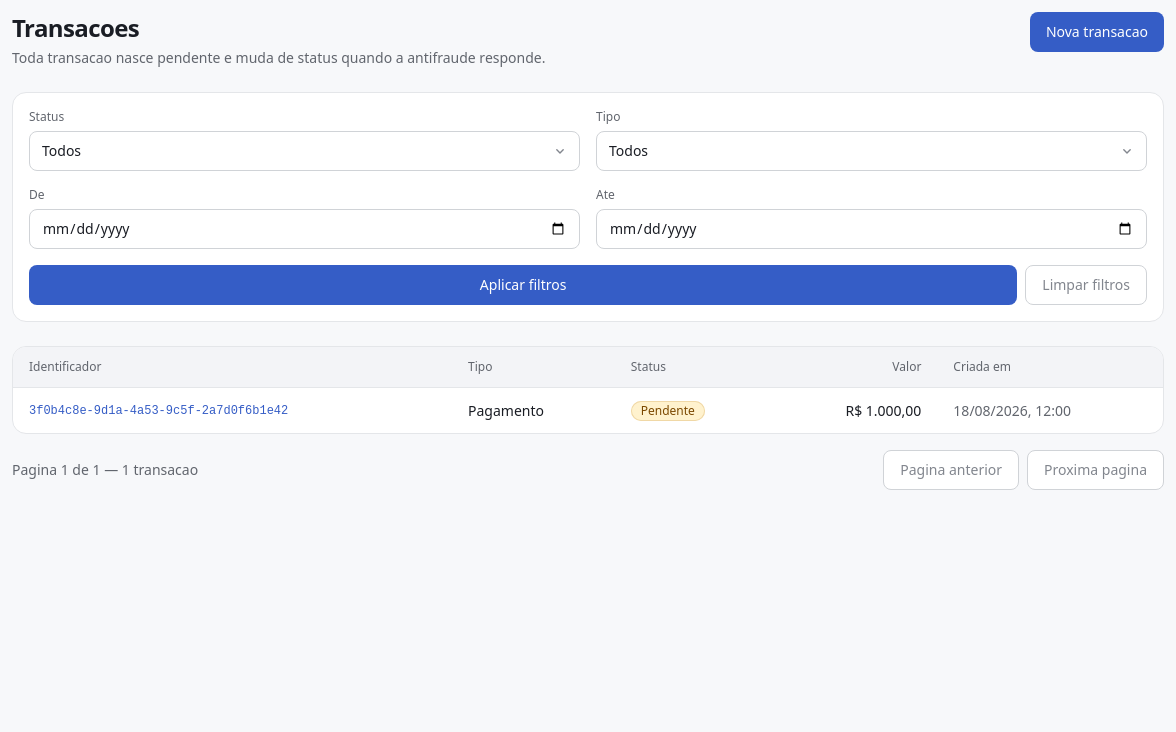
Scenario: TransactionsView › distingue lista vazia por filtro e oferece a saida
Expected: the table is shown, [13,347,1163,433]
Select "Rejeitada" in the dropdown labelled "Status". click: (304, 151)
box: [29,131,580,171]
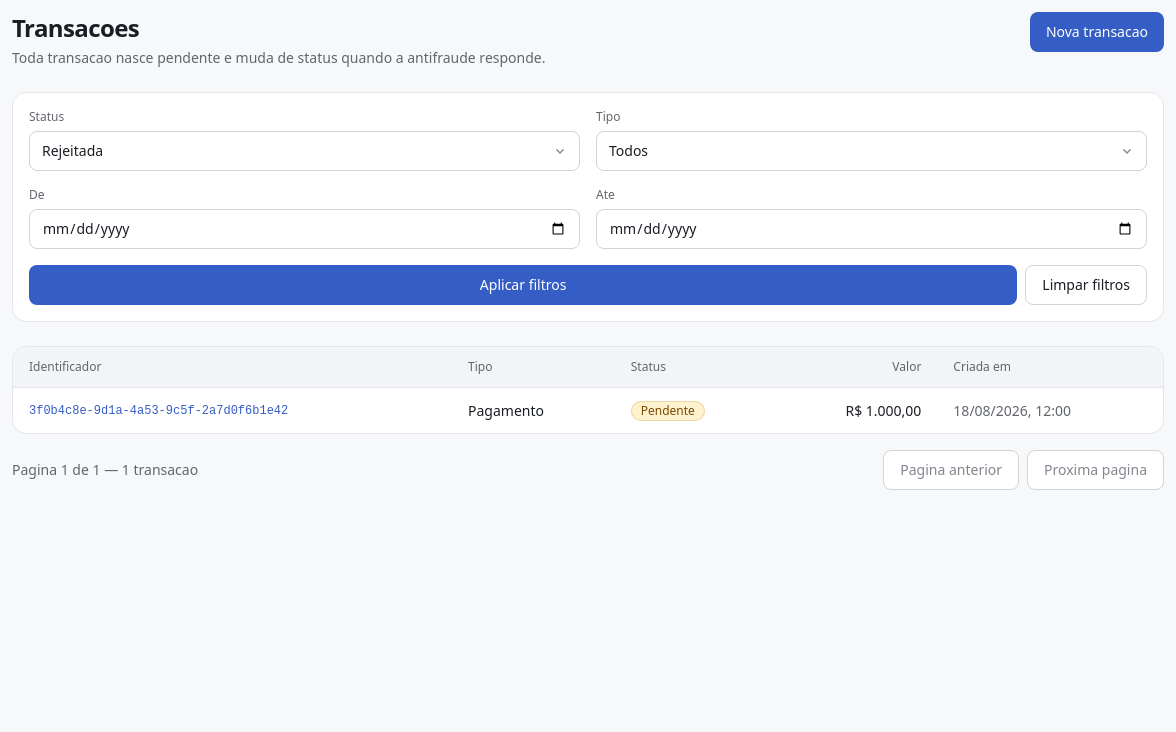
Click the button "Aplicar filtros". click: (523, 285)
box: [29,265,1017,305]
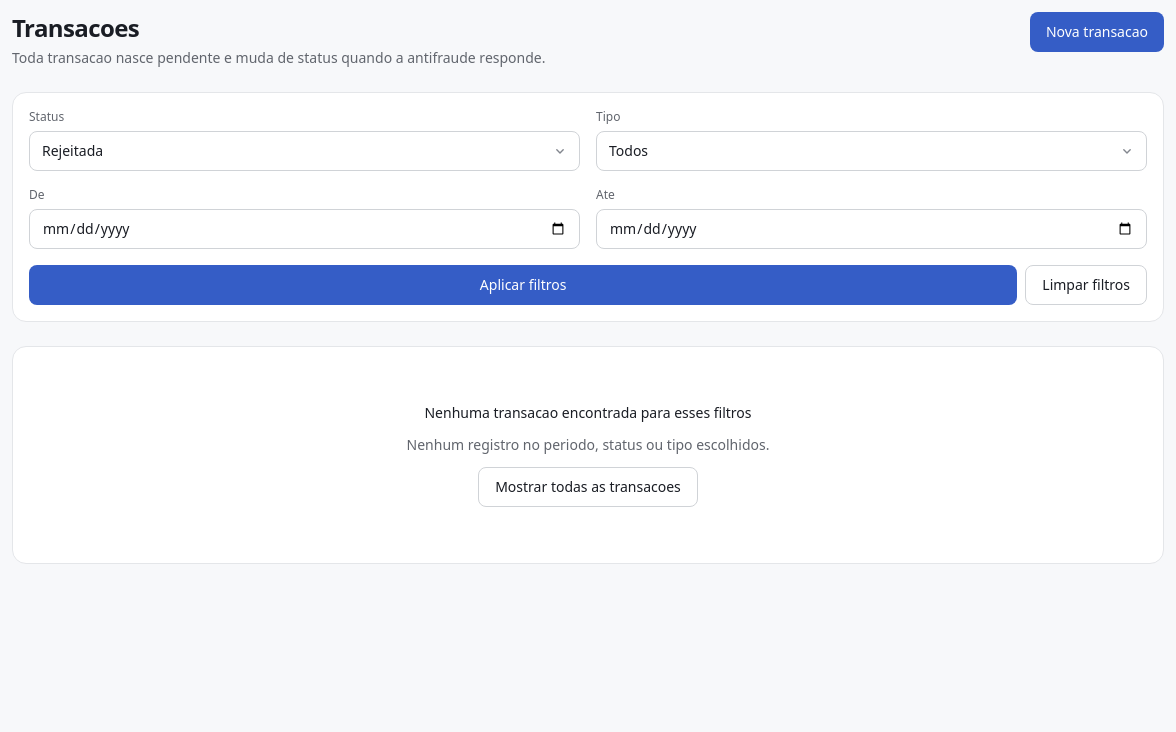
Expected: the text "Nenhuma transacao encontrada para esses filtros" is shown, [424,403,752,423]
Click the button "Mostrar todas as transacoes". click: (588, 487)
box: [478,467,698,507]
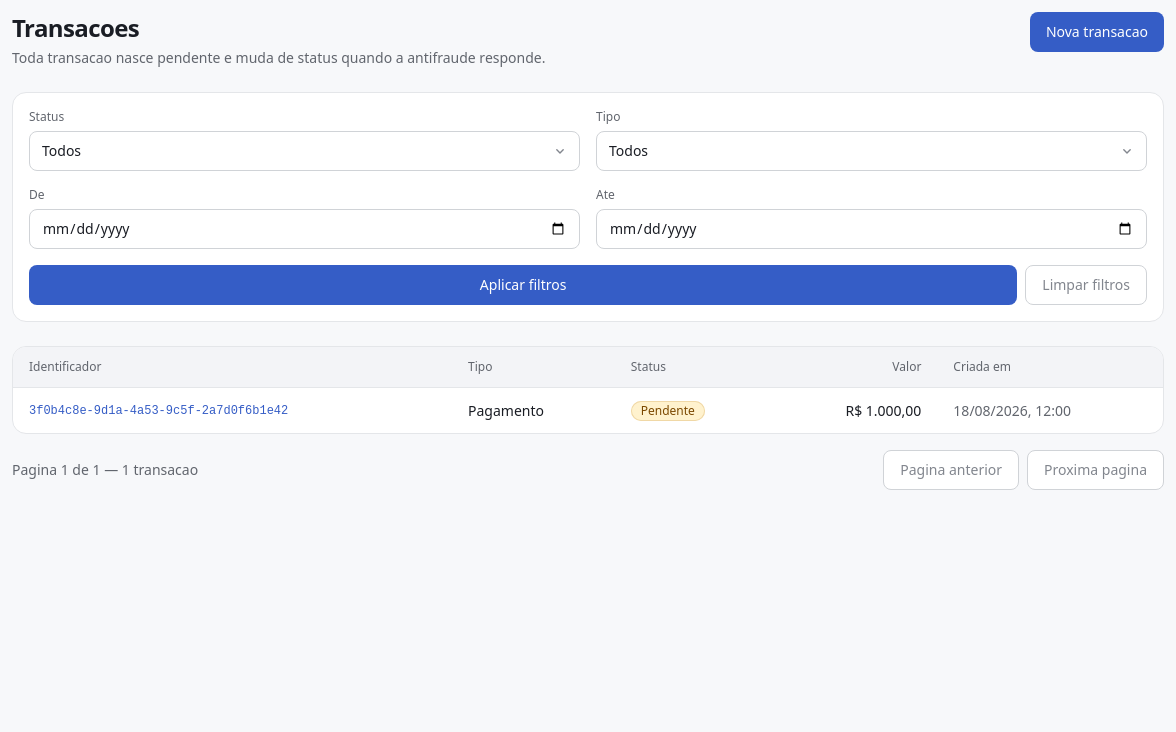
Expected: the table is shown, [13,347,1163,433]
